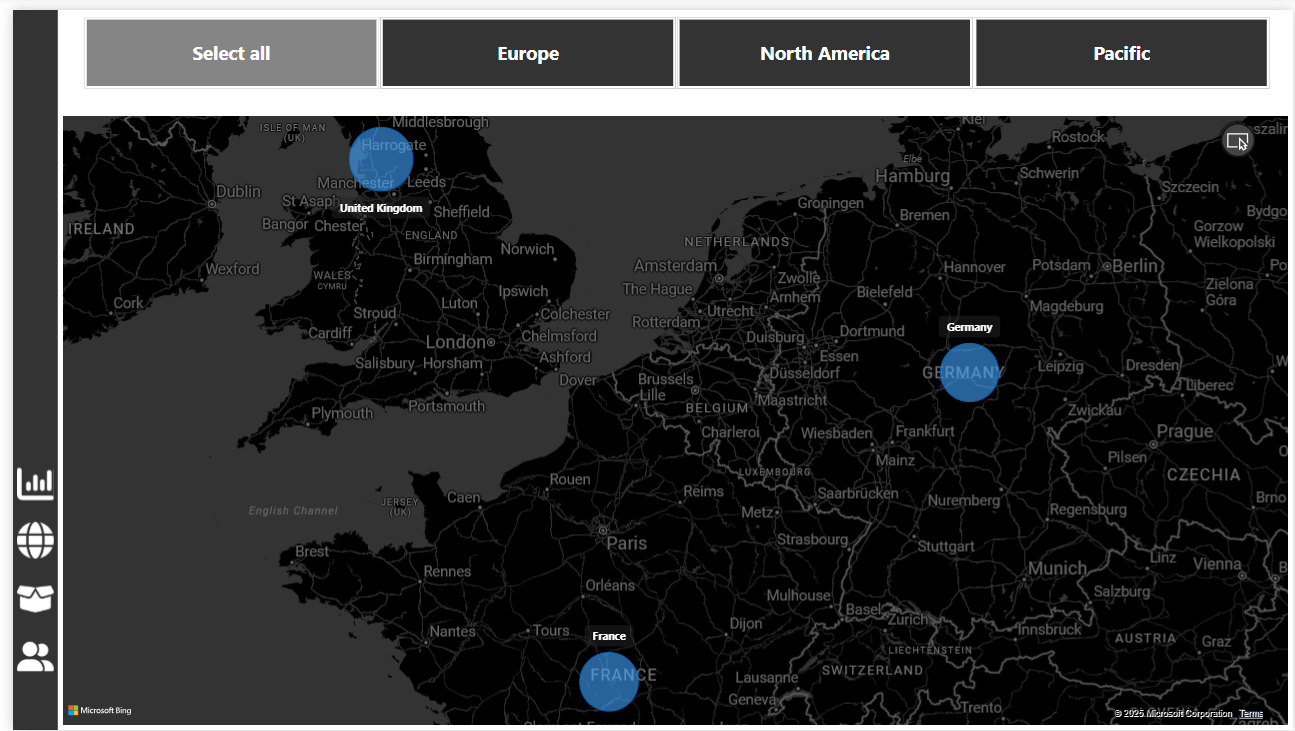

This screenshot's page, from the dashboard's own definition file:
{"tool":"powerbi","page":{"name":"Map","canvas":[1280,720],"ordinal":1},"visuals":[{"type":"shape","title":"Left Nav","box":[0,0,45,720],"z":0},{"type":"actionButton","box":[0,449.4,45.2,47.7],"z":0,"group":"g1"},{"type":"actionButton","box":[0,505.7,45.2,47.7],"z":1000,"group":"g1"},{"type":"map","fields":{"Category":["Territory Lookup.Country"],"Size":["Measure Table.Total Order"]},"box":[45.2,101.5,1235.1,618.8],"z":1000},{"type":"slicer","fields":{"Values":["Territory Lookup.Continent"]},"box":[45.2,0,1235.1,85.6],"z":2000},{"type":"actionButton","box":[0,564.3,45.2,47.7],"z":2000,"group":"g1"},{"type":"actionButton","box":[0,621.8,45.2,47.7],"z":3000,"group":"g1"},{"type":"group","id":"g1","title":"Group 1","box":[0,449.4,45.5,219],"z":3000}]}

Visuals, with their boxes on the page's 1280x720 design canvas (x1, y1, x2, y2). These are canvas units, not pixel positions in the 1295x731 screenshot, which may show the page scaled, cropped or inside an application window:
"Left Nav" shape: box=[0, 0, 45, 720]
actionButton: box=[0, 449, 45, 497]
actionButton: box=[0, 506, 45, 553]
map - Territory Lookup.Country x Measure Table.Total Order: box=[45, 102, 1280, 720]
slicer - Territory Lookup.Continent: box=[45, 0, 1280, 86]
actionButton: box=[0, 564, 45, 612]
actionButton: box=[0, 622, 45, 670]
"Group 1" group: box=[0, 449, 46, 668]
